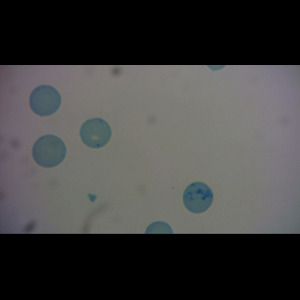aggregate reticulocyte: (181, 181, 216, 215)
erythrocyte: (32, 134, 67, 168), (28, 84, 62, 118)
punctate reticulocyte: (78, 116, 113, 149)
